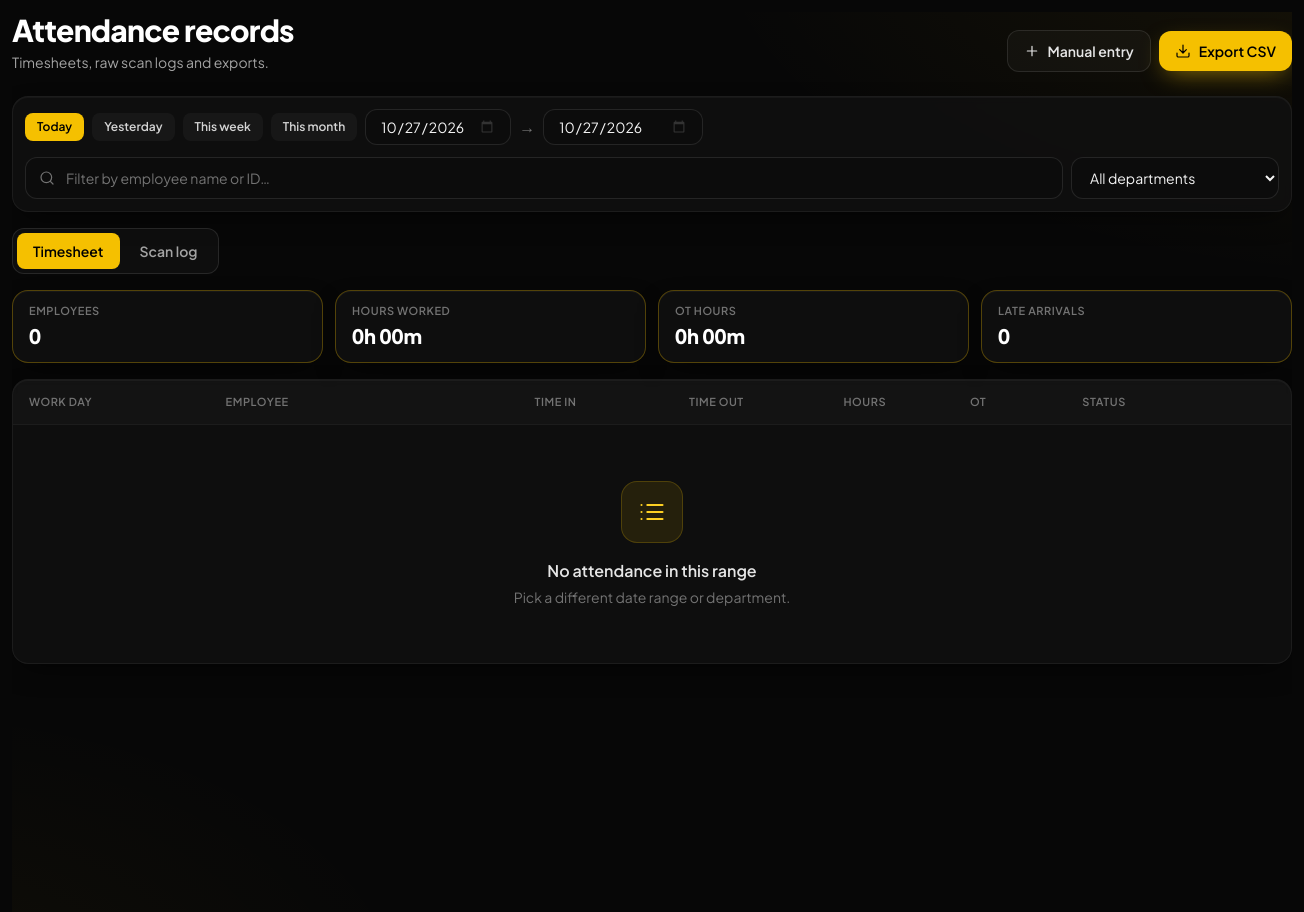
Records page › ignores a slow response for an older filter
Click the tab "Scan log": coordinates (168, 251) [124,233,214,269]
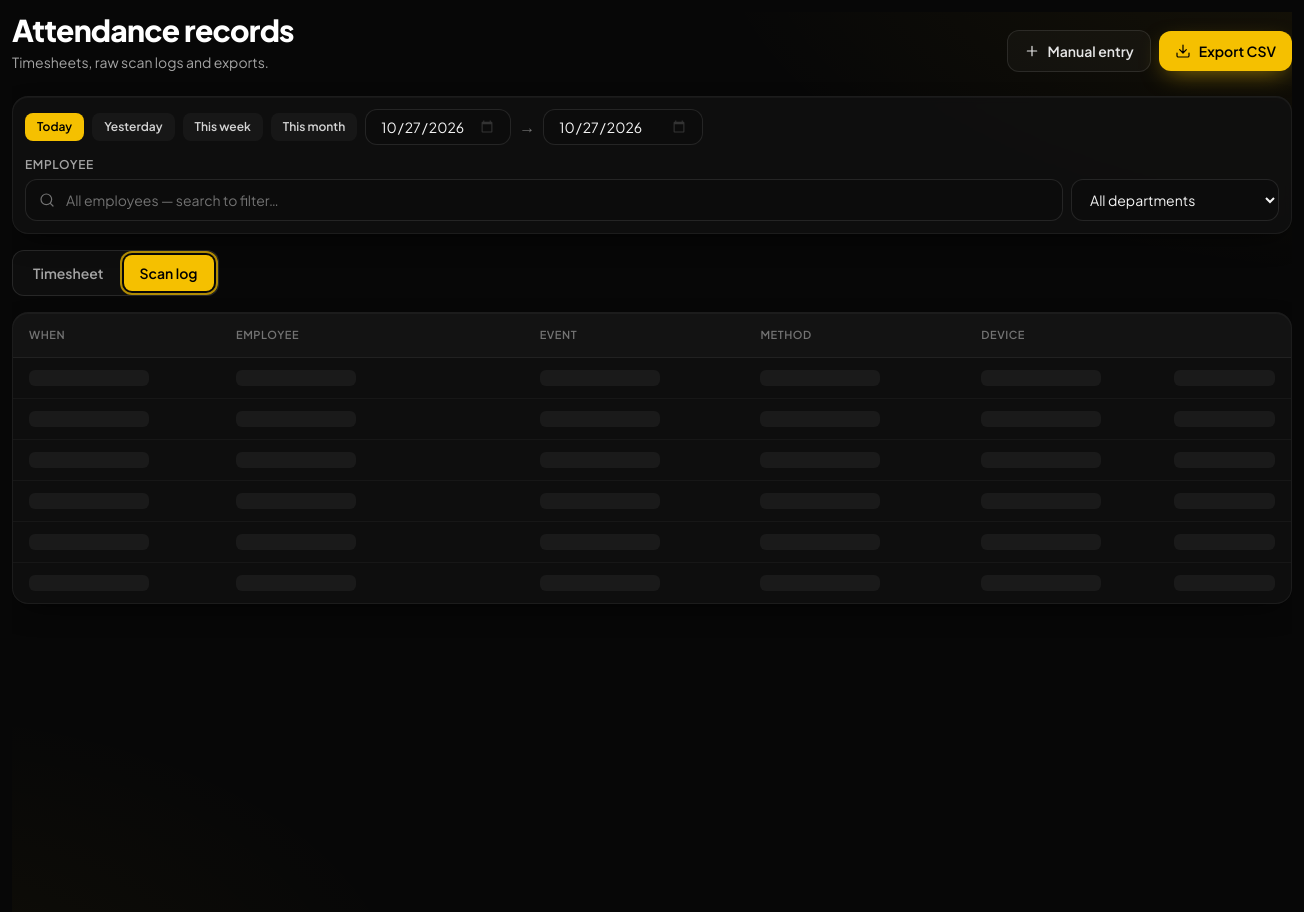
Click the button "Yesterday": coordinates (133, 127) [92,113,175,141]
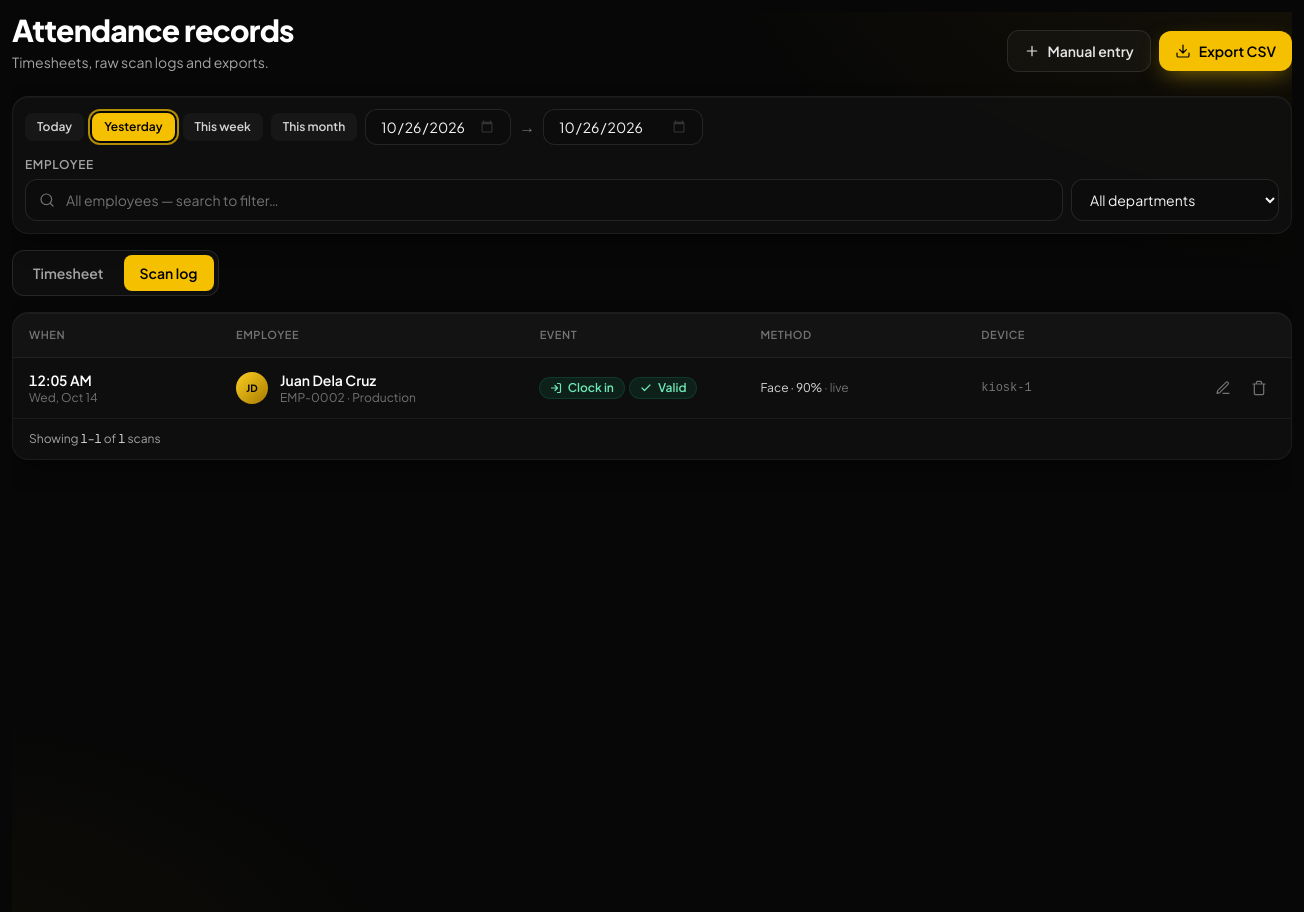
Now the text "Juan Dela Cruz" is shown, box [280,371,376,389]
